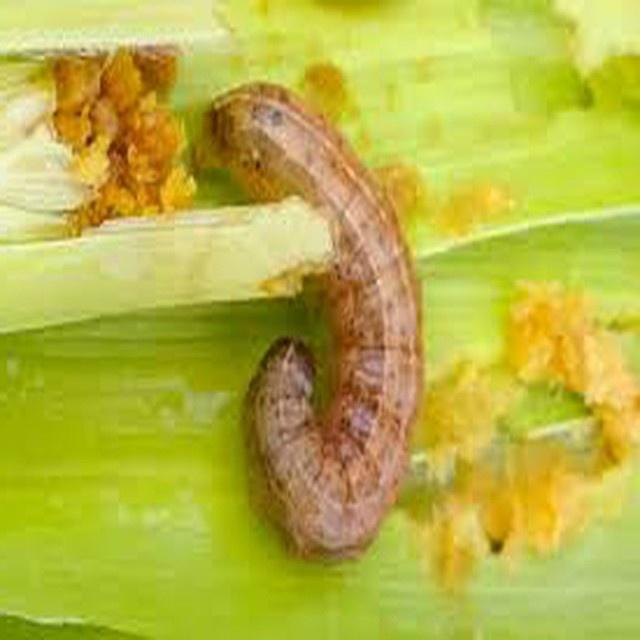Plaga: (213, 80, 420, 563)
